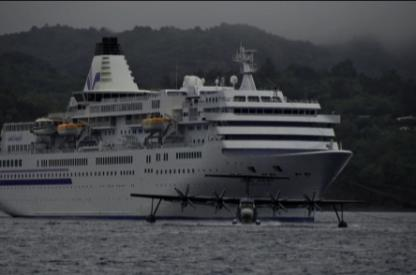Tu95: (131, 173, 367, 227)
